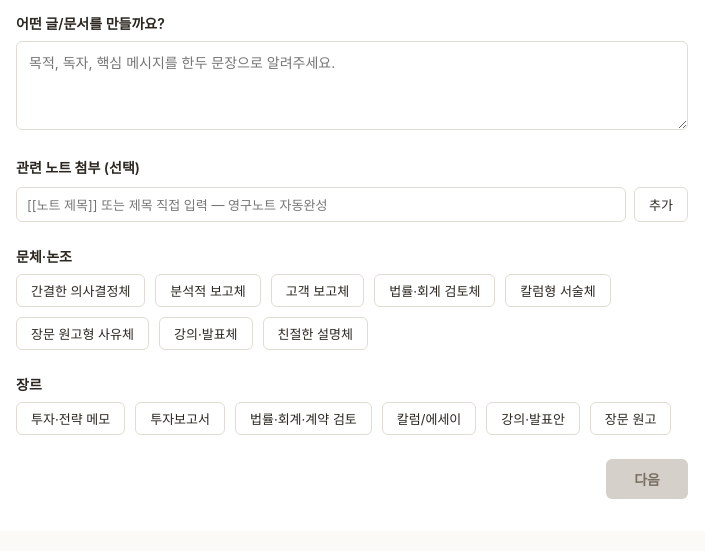
Test: Step1Seed — 노트 첨부 › chip X 버튼 클릭 시 해당 노트가 제거된다
Replace the text in the field with test id "step1-note-input" with "[ [노트C]]". click: [321, 205]
box: [16,187,626,222]
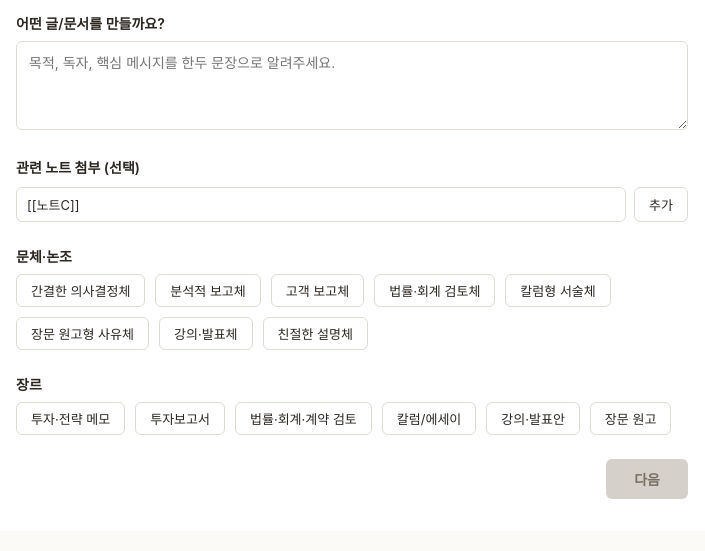
Click the button with test id "step1-note-add-btn". click: [661, 205]
box: [634,187,688,222]
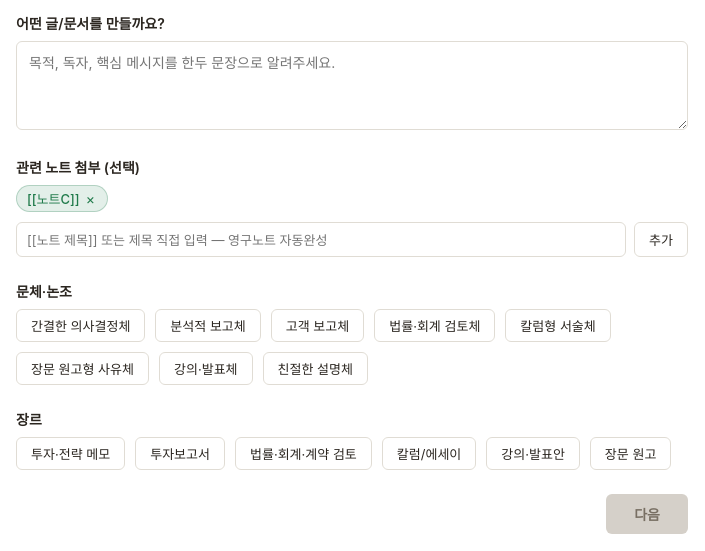
Click the button "×". click: [90, 199]
box: [84,192,97,206]
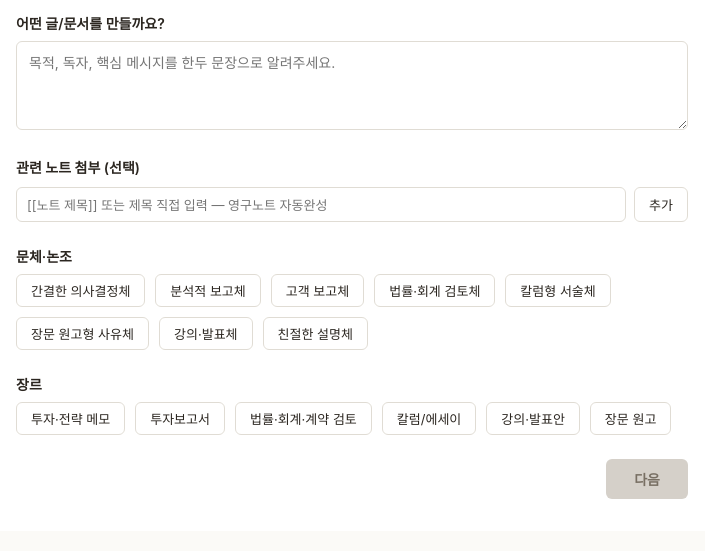
Result: the text "[ [노트C]]" is gone
